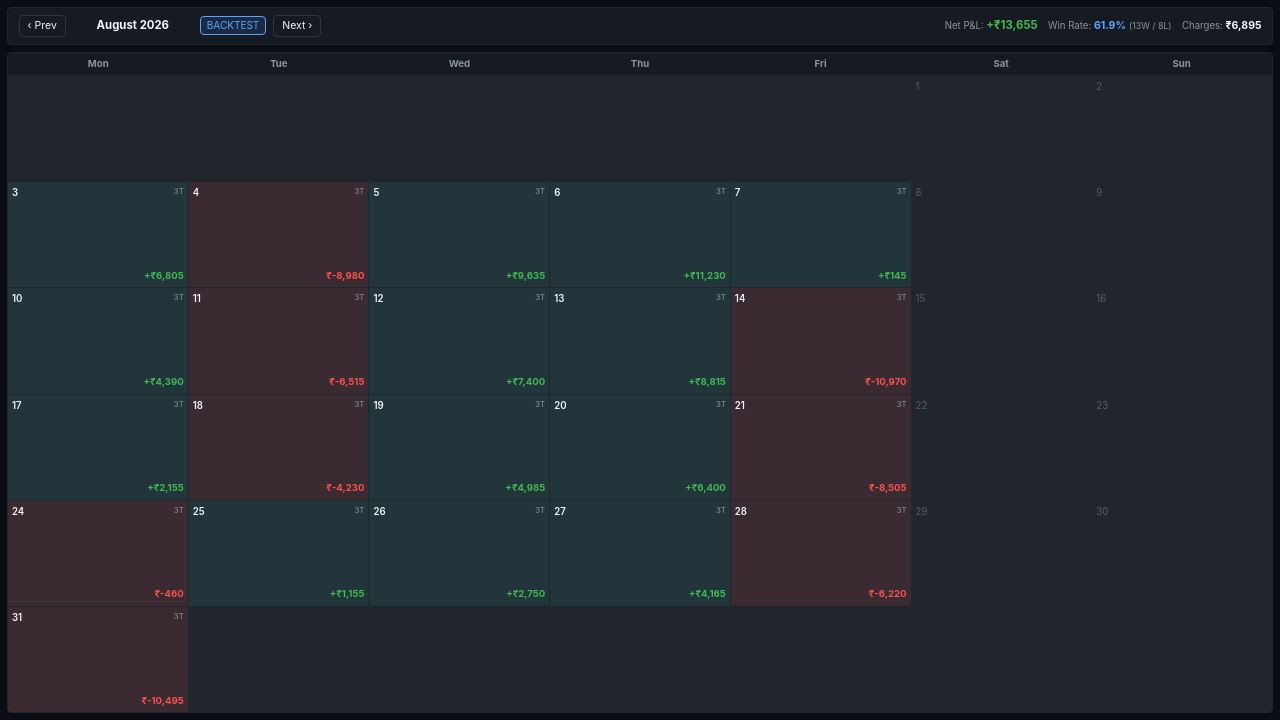
PnlCalendarWidget Component › clicks a trading day tile and opens day trade book drilldown
Step 1. Click the element with test id "trading-day-tile-" → coordinates (98, 235), box [8, 182, 188, 287]
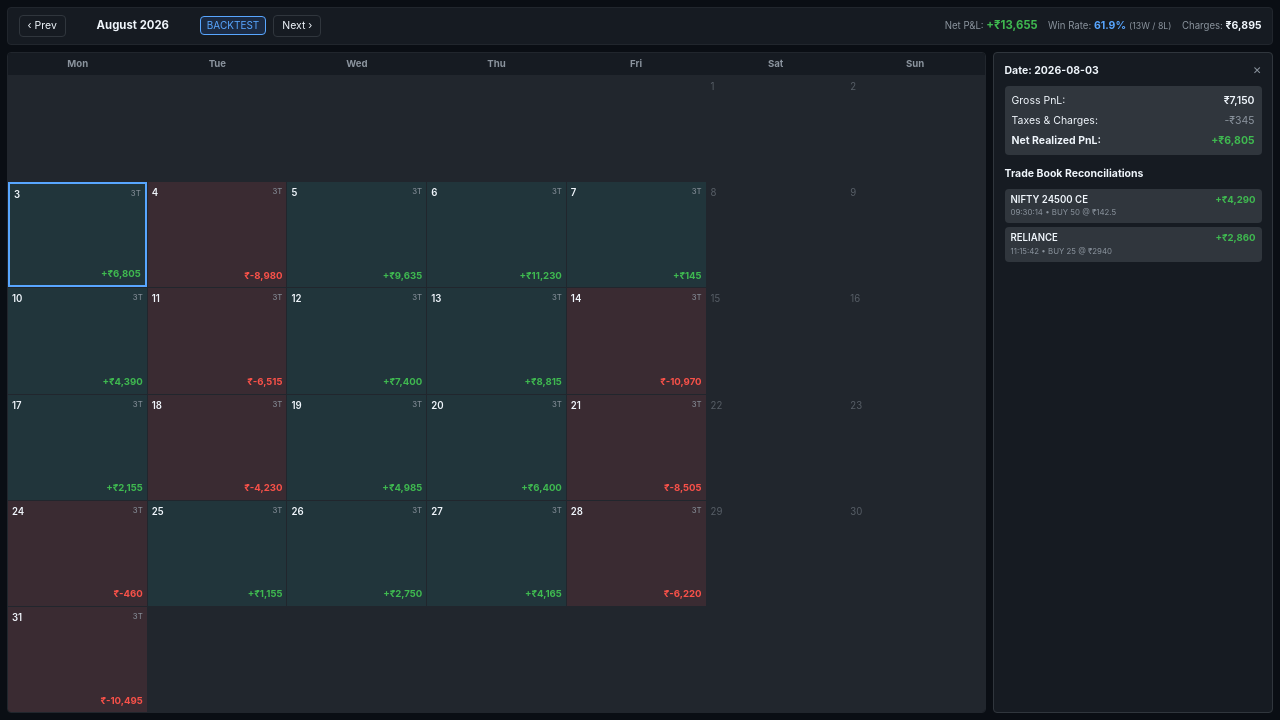
Now the element with test id "day-drilldown-panel" is shown, box [993, 52, 1273, 713]
Now the text "Trade Book Reconciliations" is shown, box [1004, 167, 1144, 180]
Now the text "NIFTY 24500 CE" is shown, box [1010, 194, 1088, 205]
